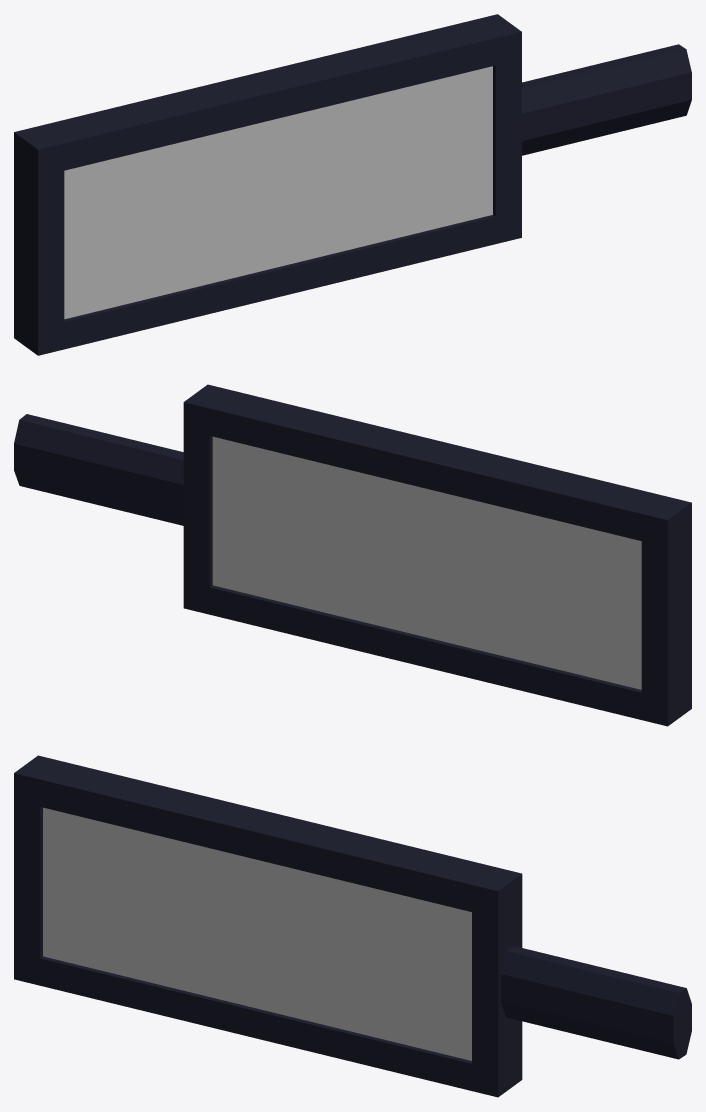
The model's file is Sign_Side_Street04.fbx.
3 renders of one model, top to bottom at view 1: azimuth 30°, elevation 25°; view 2: azimuth 150°, elevation 25°; view 3: azimuth 330°, elevation 25°, orthographic.
Visible parts, largest first — view 1: Cube.479; view 2: Cube.479; view 3: Cube.479.
Boxes of the visible parts, box(x1,y1,x2,y2) form: Cube.479: box(14, 14, 691, 355); Cube.479: box(14, 384, 691, 726); Cube.479: box(14, 755, 691, 1097).
Size of the model in its own units: 94.34 by 28.29 by 6.01.
